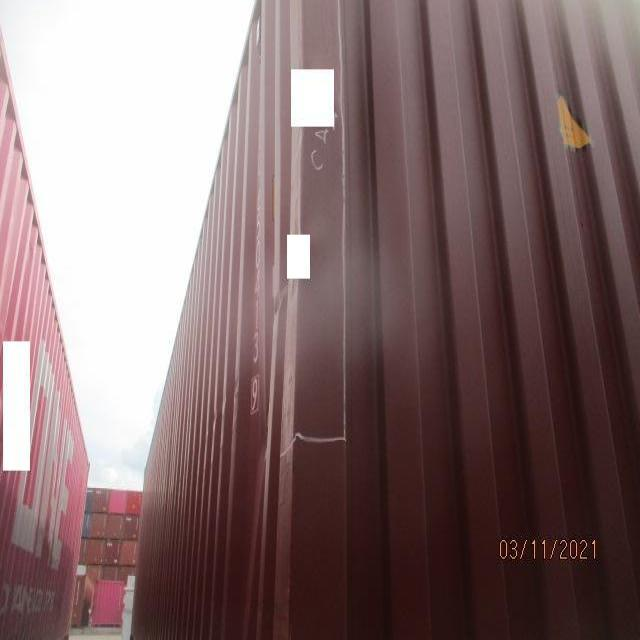dent: (226, 300, 287, 556)
